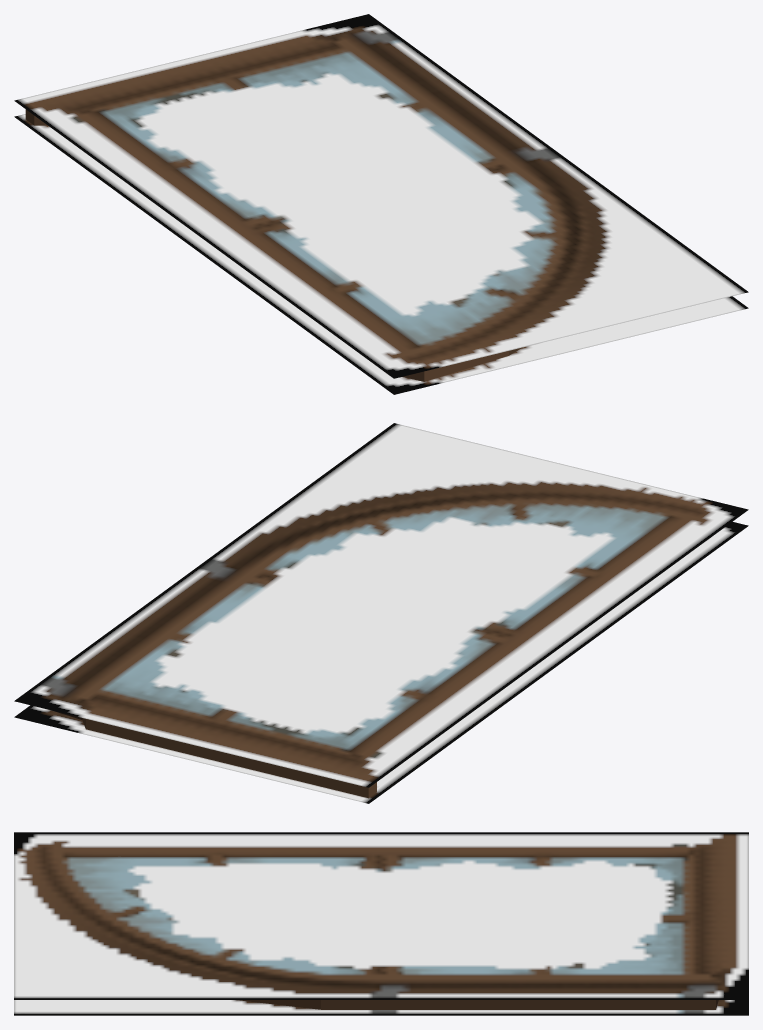
Rendered from pz_native_fixtures_windows_wood_59_frame.obj.
3 views of the same model, one above another, from view 1: azimuth 30°, elevation 25°; view 2: azimuth 150°, elevation 25°; view 3: azimuth 270°, elevation 25° (orthographic). The views are drawn at different scales.
Parts seen in each view (by area): view 1: pz_native_fixtures_windows_wood_59_frame; view 2: pz_native_fixtures_windows_wood_59_frame; view 3: pz_native_fixtures_windows_wood_59_frame.
Boxes of the visible parts, x1,y1,x2,y2 form: pz_native_fixtures_windows_wood_59_frame: [14, 14, 748, 394]; pz_native_fixtures_windows_wood_59_frame: [14, 423, 748, 803]; pz_native_fixtures_windows_wood_59_frame: [14, 832, 748, 1015].
Bounding box in the file's own units: 0.9219 × 0.04 × 1.71.
Materials: 1 (1 with a texture image).
